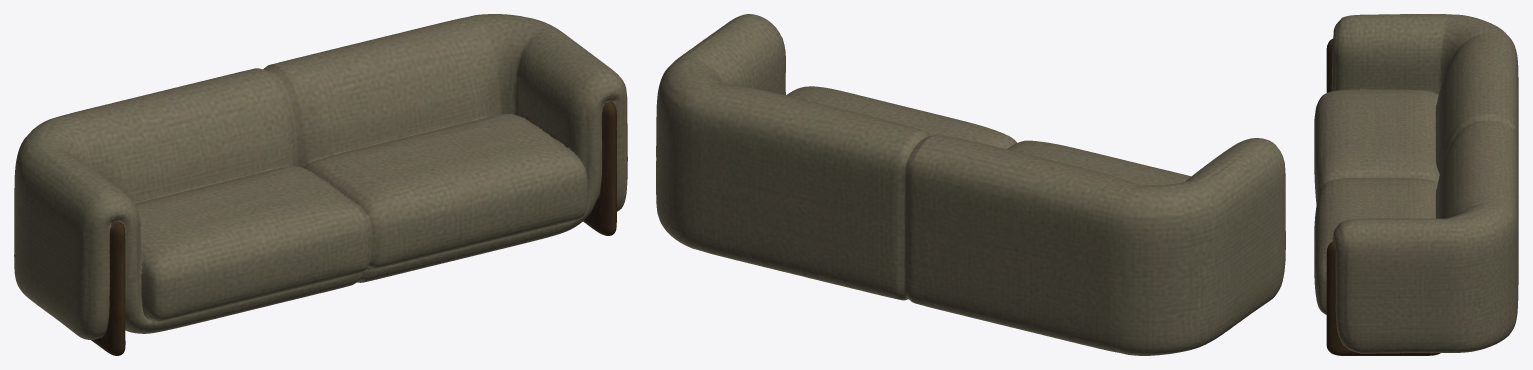
The model's file is Contemporary Two-Seater Sofa with Sculpted Wood Arms [mVmLSy].glb.
3 renders of one model, left to right at view 1: azimuth 30°, elevation 25°; view 2: azimuth 150°, elevation 25°; view 3: azimuth 270°, elevation 25°, orthographic. The views are drawn at different scales.
Parts seen in each view (by area): view 1: world; view 2: world; view 3: world.
Boxes of the visible parts, x1,y1,x2,y2 form: world: (14,14,627,355); world: (656,14,1285,355); world: (1314,14,1518,355).
Bounding box in the file's own units: 1 × 0.2831 × 0.3832.
Materials: 1 (1 with a texture image).
